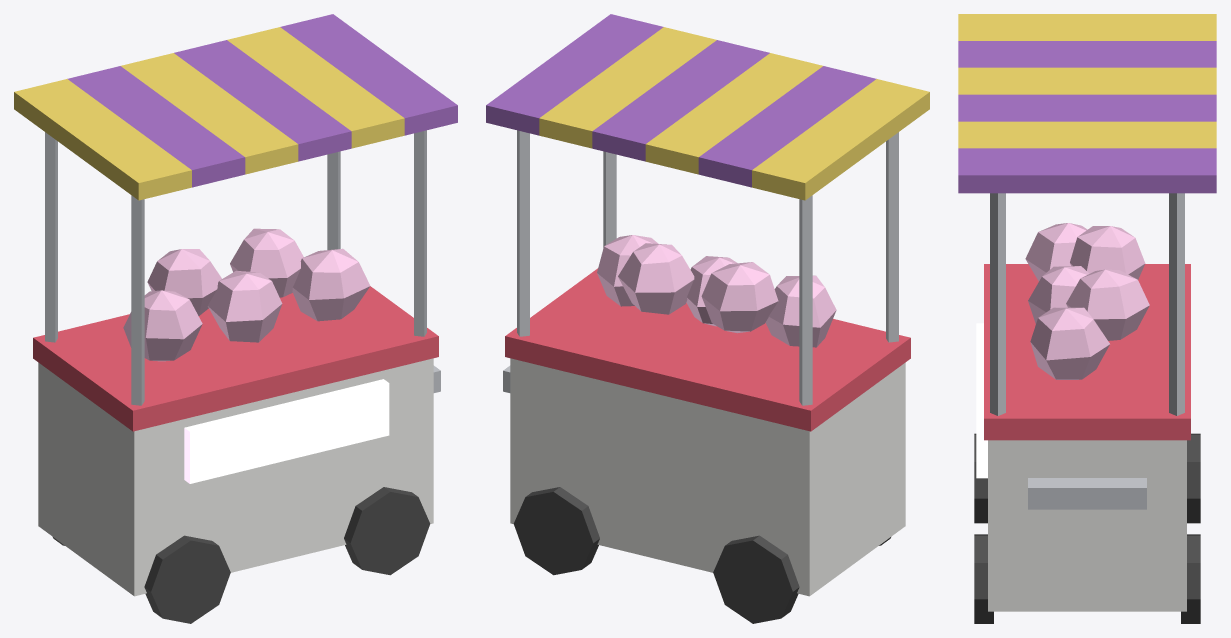
The model's file is arena_snack_cart.glb.
The picture shows the model from 3 angles, left to right: view 1: azimuth 30°, elevation 25°; view 2: azimuth 150°, elevation 25°; view 3: azimuth 270°, elevation 25°; orthographic projection. The views are drawn at different scales.
Visible parts, largest first — view 1: arena_snack_cart; view 2: arena_snack_cart; view 3: arena_snack_cart.
Boxes of the visible parts, x1,y1,x2,y2 form: arena_snack_cart: (14, 14, 457, 623); arena_snack_cart: (486, 14, 929, 623); arena_snack_cart: (958, 14, 1216, 623).
Bounding box in the file's own units: 2.02 × 2.65 × 1.3.
